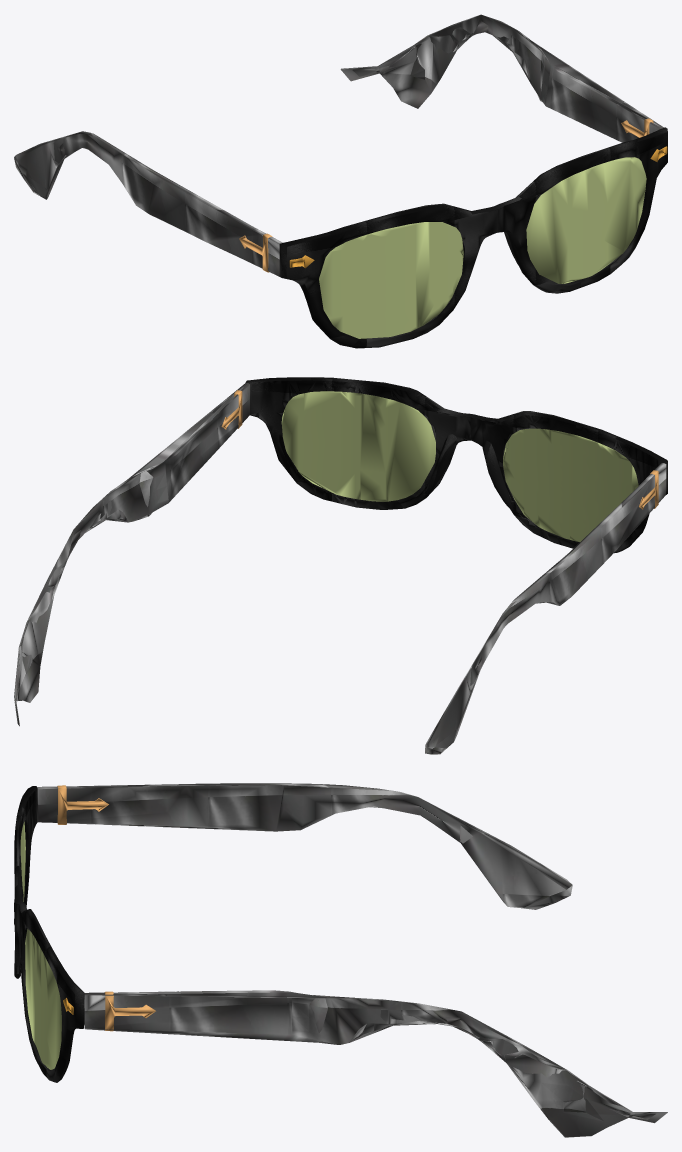
File: lentes-sol-negros-lite.glb
3 views of the same model, one above another, from view 1: azimuth 30°, elevation 25°; view 2: azimuth 150°, elevation 25°; view 3: azimuth 270°, elevation 25° (orthographic). The views are drawn at different scales.
Parts seen in each view (by area): view 1: Fit_lentes_sol_negros; view 2: Fit_lentes_sol_negros; view 3: Fit_lentes_sol_negros.
Boxes of the visible parts, x1=… form: Fit_lentes_sol_negros: x1=14, y1=14, x2=667, y2=348; Fit_lentes_sol_negros: x1=14, y1=377, x2=667, y2=754; Fit_lentes_sol_negros: x1=14, y1=783, x2=667, y2=1137.
Size of the model in its own units: 0.1792 by 0.0632 by 0.2271.
Materials: 5 (2 with a texture image).
